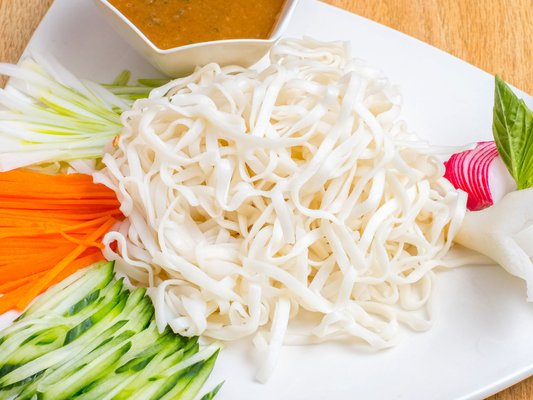curry: (0, 260, 224, 400)
sushi: (93, 0, 297, 79)
